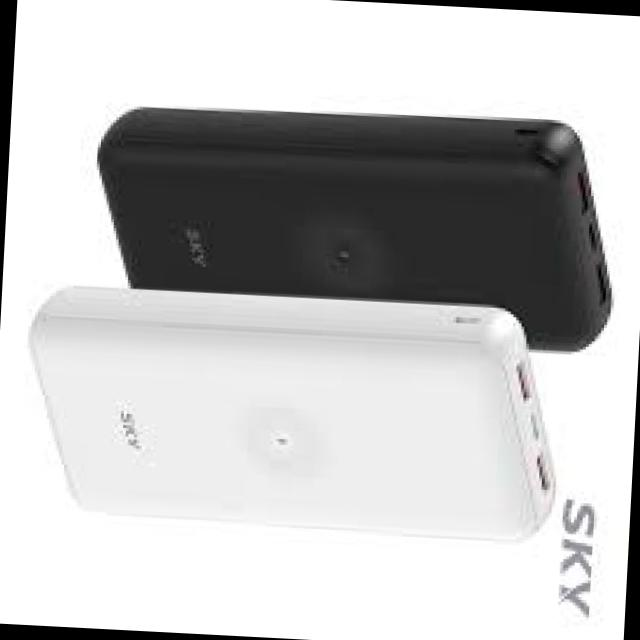power_bank: (19, 278, 570, 554), (79, 86, 629, 362)
